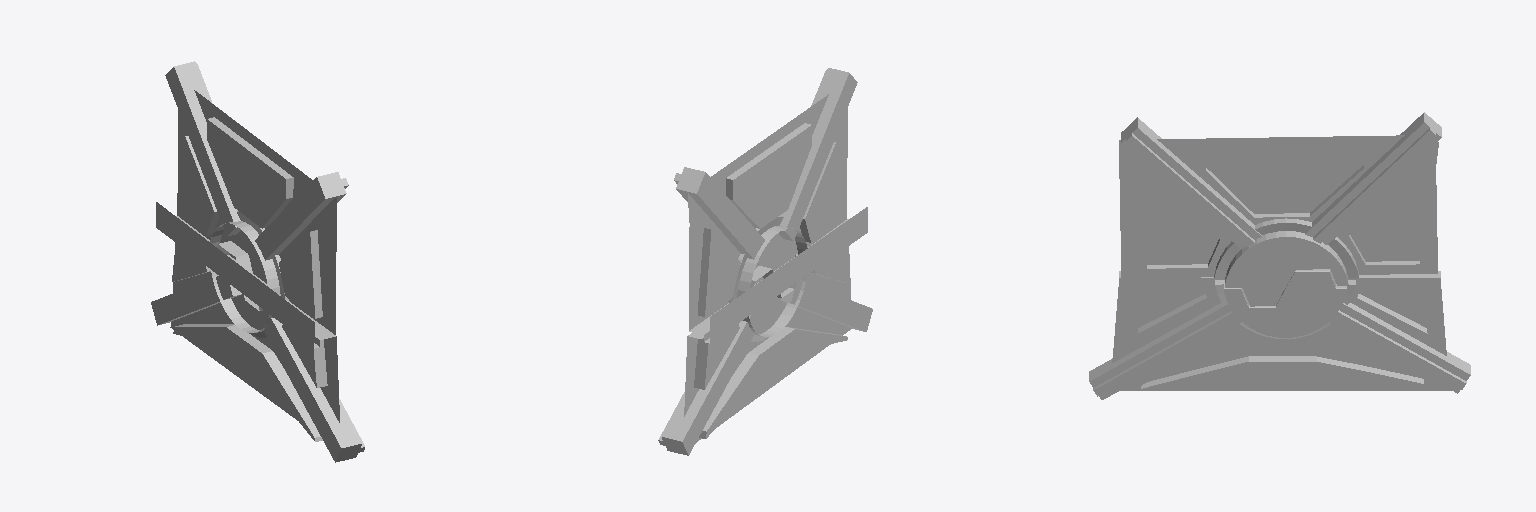
File: Door UV.obj
3 views of the same model, side by side, from view 1: azimuth 30°, elevation 25°; view 2: azimuth 150°, elevation 25°; view 3: azimuth 270°, elevation 25° (orthographic).
Visible parts, largest first — view 1: polySurface10; view 2: polySurface10; view 3: polySurface10.
Boxes of the visible parts, <box> form: polySurface10: <box>151,61,364,462</box>; polySurface10: <box>658,68,872,455</box>; polySurface10: <box>1089,112,1470,399</box>.
Size of the model in its own units: 1.41 by 9.01 by 11.2.